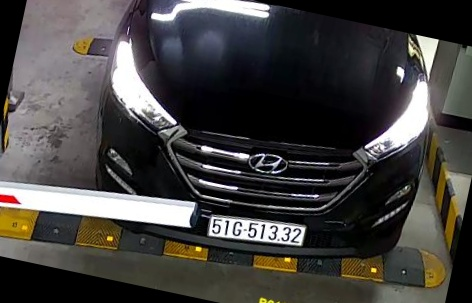plate: (204, 206, 310, 254)
